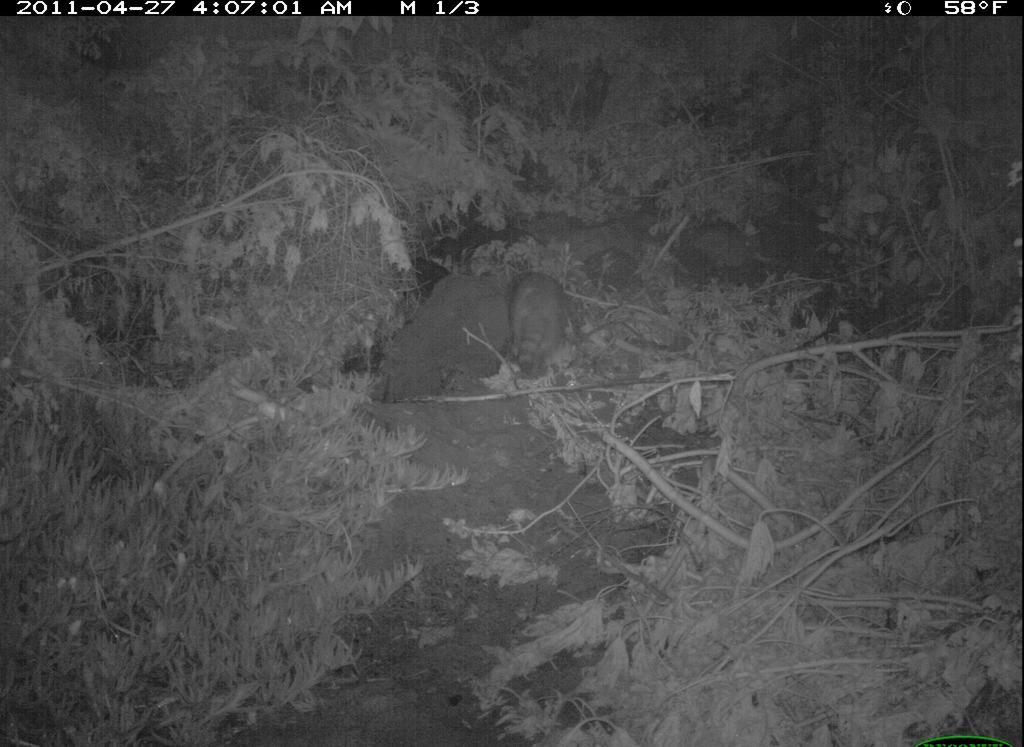raccoon: (496, 264, 584, 388)
